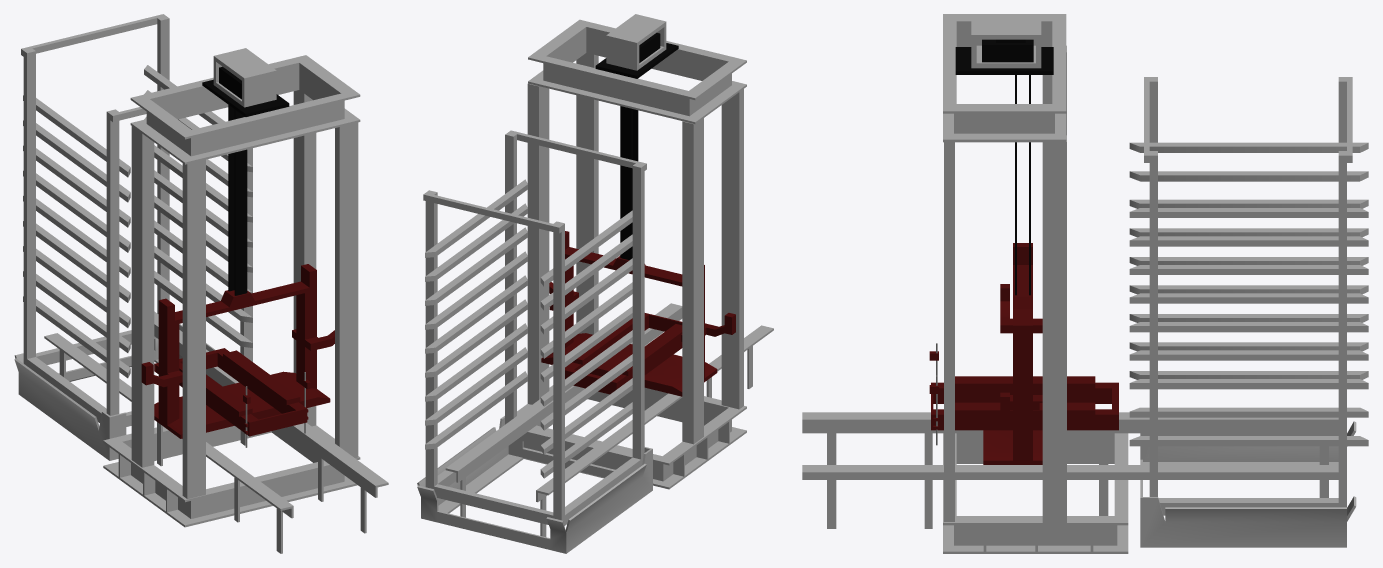
Rendered from SM_ProdLine_storage_A.FBX.
3 renders of one model, left to right at view 1: azimuth 30°, elevation 25°; view 2: azimuth 150°, elevation 25°; view 3: azimuth 270°, elevation 25°, orthographic. The views are drawn at different scales.
Visible parts, largest first — view 1: SM_ProdLine_storage_A_LOD0; view 2: SM_ProdLine_storage_A_LOD0; view 3: SM_ProdLine_storage_A_LOD0.
Boxes of the visible parts, x1,y1,x2,y2 form: SM_ProdLine_storage_A_LOD0: [14, 14, 388, 553]; SM_ProdLine_storage_A_LOD0: [417, 14, 773, 553]; SM_ProdLine_storage_A_LOD0: [802, 14, 1368, 553].
Bounding box in the file's own units: 153 × 324 × 303.
